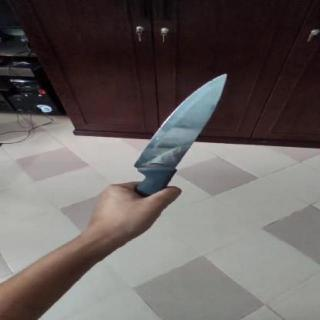knife: (133, 74, 229, 194)
